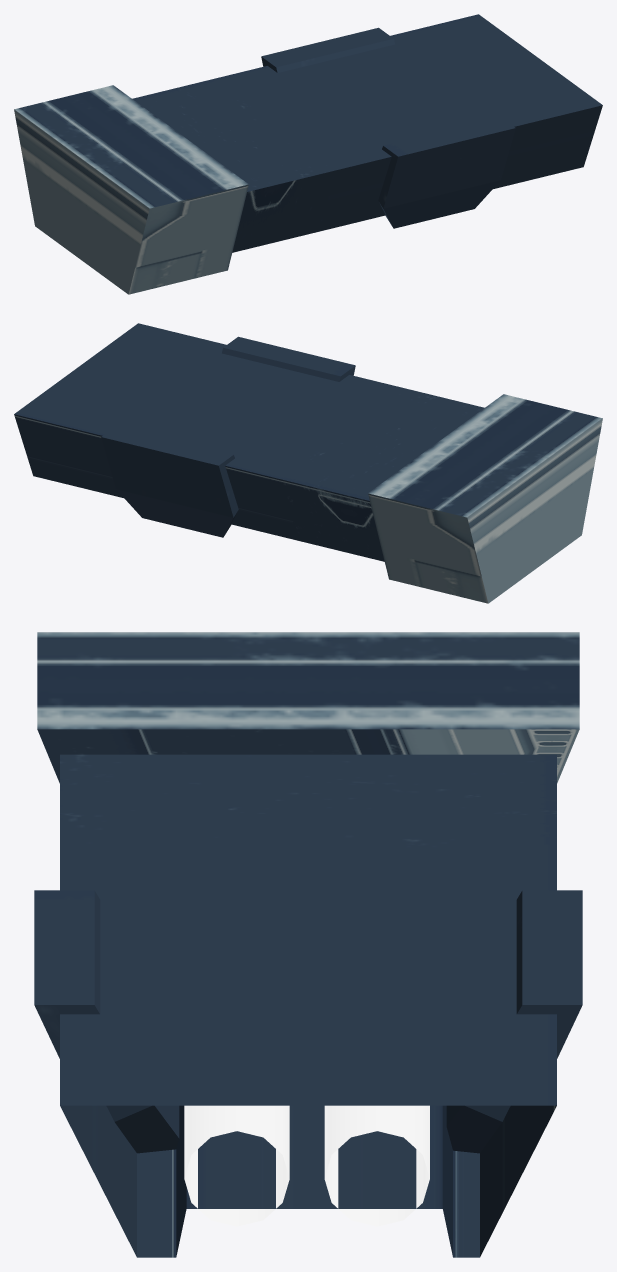
The model's file is Prop_Light_Small.gltf.
3 views of the same model, one above another, from view 1: azimuth 30°, elevation 25°; view 2: azimuth 150°, elevation 25°; view 3: azimuth 270°, elevation 25° (orthographic). The views are drawn at different scales.
Visible parts, largest first — view 1: Prop_Light_Small; view 2: Prop_Light_Small; view 3: Prop_Light_Small.
Boxes of the visible parts, x1,y1,x2,y2 form: Prop_Light_Small: (14, 14, 602, 294); Prop_Light_Small: (14, 323, 602, 603); Prop_Light_Small: (34, 632, 582, 1257).
Bounding box in the file's own units: 0.8609 × 0.1819 × 0.4453.
Materials: 2 (1 with a texture image).
